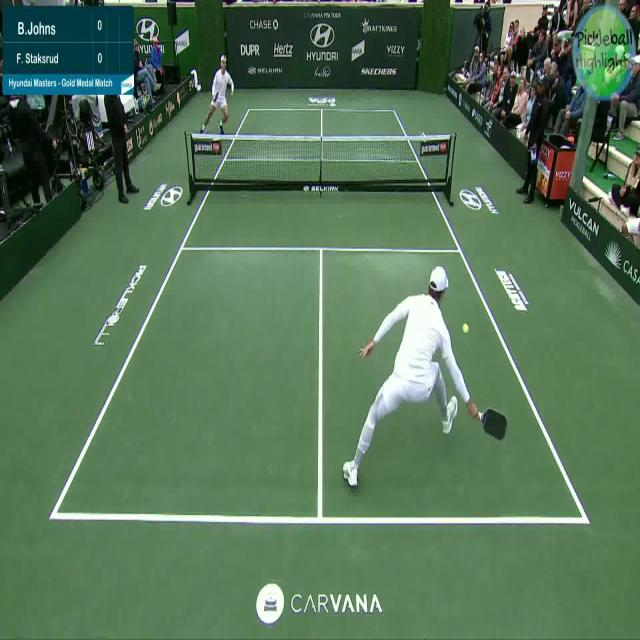ball: (461, 317, 471, 337)
